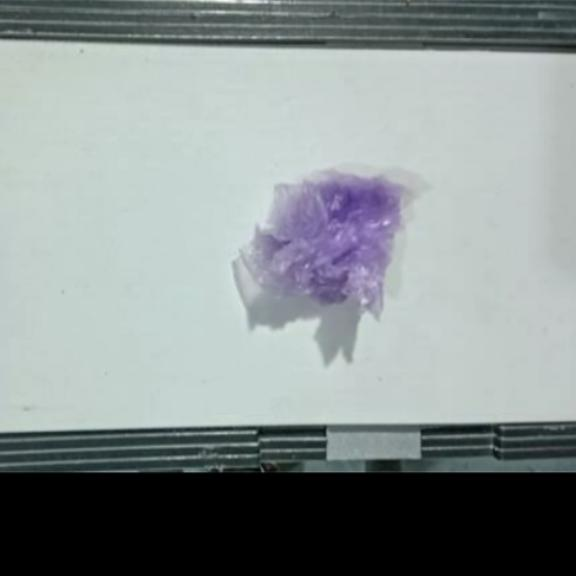Plastik: (240, 165, 416, 325)
